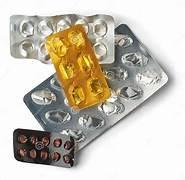pill_Strip: (24, 24, 167, 149), (46, 25, 109, 109), (10, 14, 113, 63), (13, 129, 76, 167)
